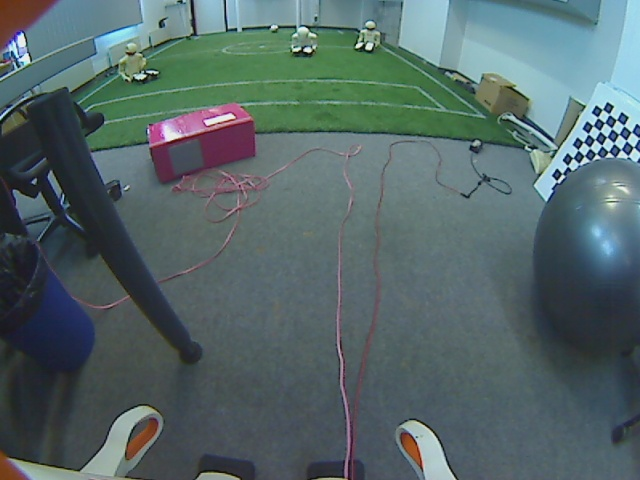ball: (264, 19, 283, 37)
robot: (117, 42, 160, 84), (287, 23, 320, 61), (351, 17, 383, 55)
